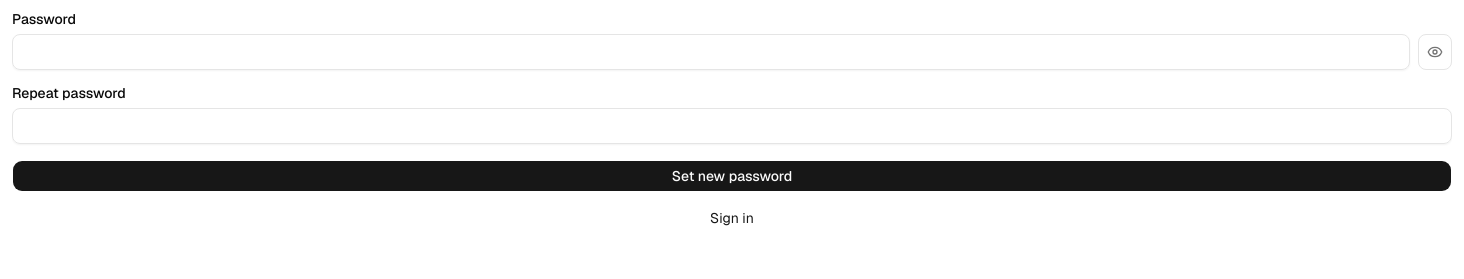
Scenario: ResetPasswordView › shows invalid token message for RESET_TOKEN_INVALID
In the password field labelled "Password": {"x": 711, "y": 52} left=12, top=34, right=1410, bottom=70, type "12345678"
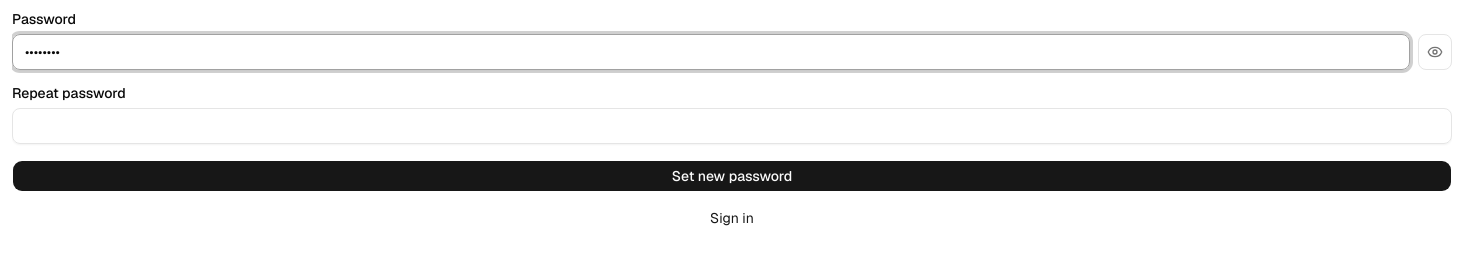
In the password field labelled "Repeat password": {"x": 732, "y": 126} left=12, top=108, right=1452, bottom=144, type "12345678"
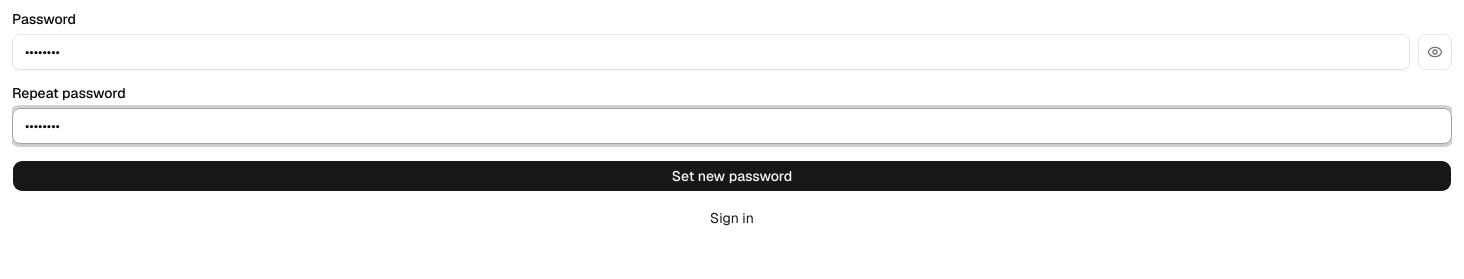
Click the button "Set new password": {"x": 732, "y": 176} left=12, top=160, right=1452, bottom=192
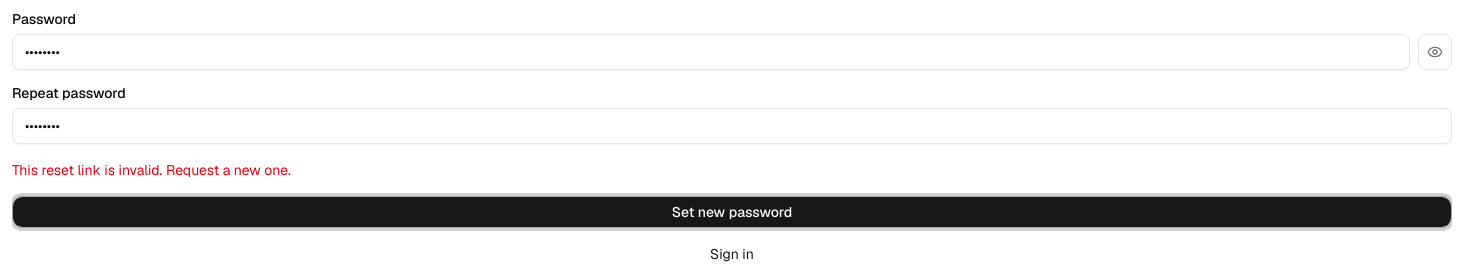
Result: the message shows "invalid" at left=12, top=161, right=291, bottom=179
